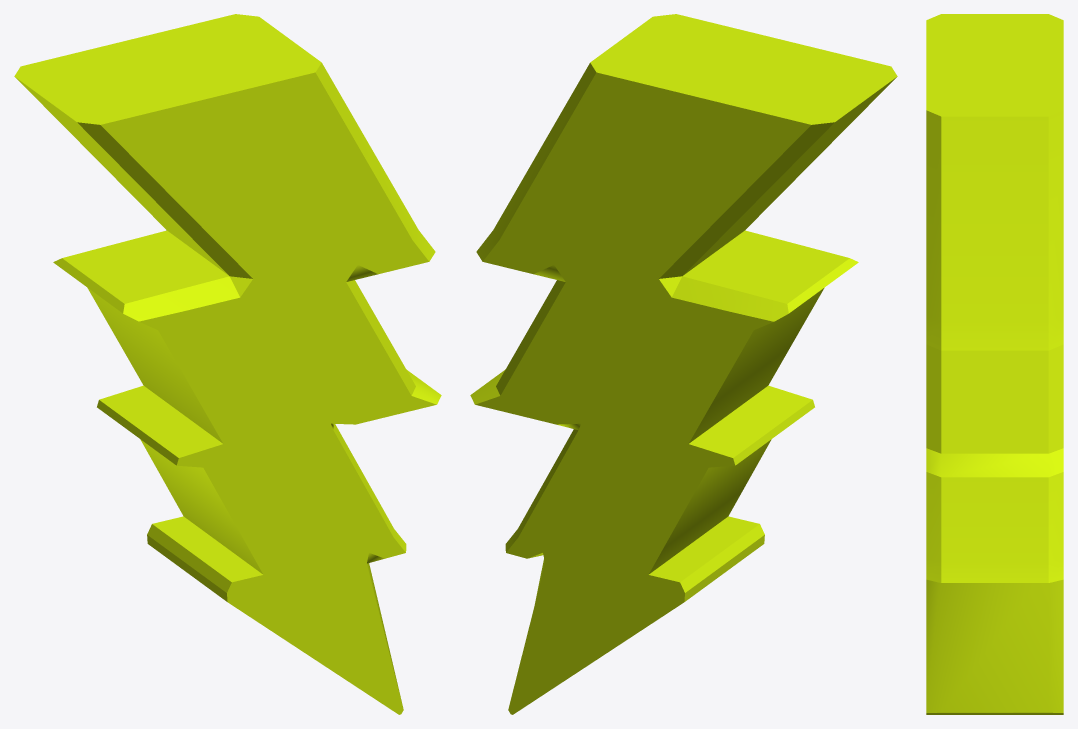
The model's file is Icon_eletricity.FBX.
3 renders of one model, left to right at view 1: azimuth 30°, elevation 25°; view 2: azimuth 150°, elevation 25°; view 3: azimuth 270°, elevation 25°, orthographic. The views are drawn at different scales.
Parts seen in each view (by area): view 1: Box001; view 2: Box001; view 3: Box001.
Part boxes in pixels (x1,y1,x2,y2): Box001: [14, 14, 441, 714]; Box001: [470, 14, 897, 714]; Box001: [926, 14, 1063, 714].
Bounding box in the file's own units: 132 × 229 × 50.
